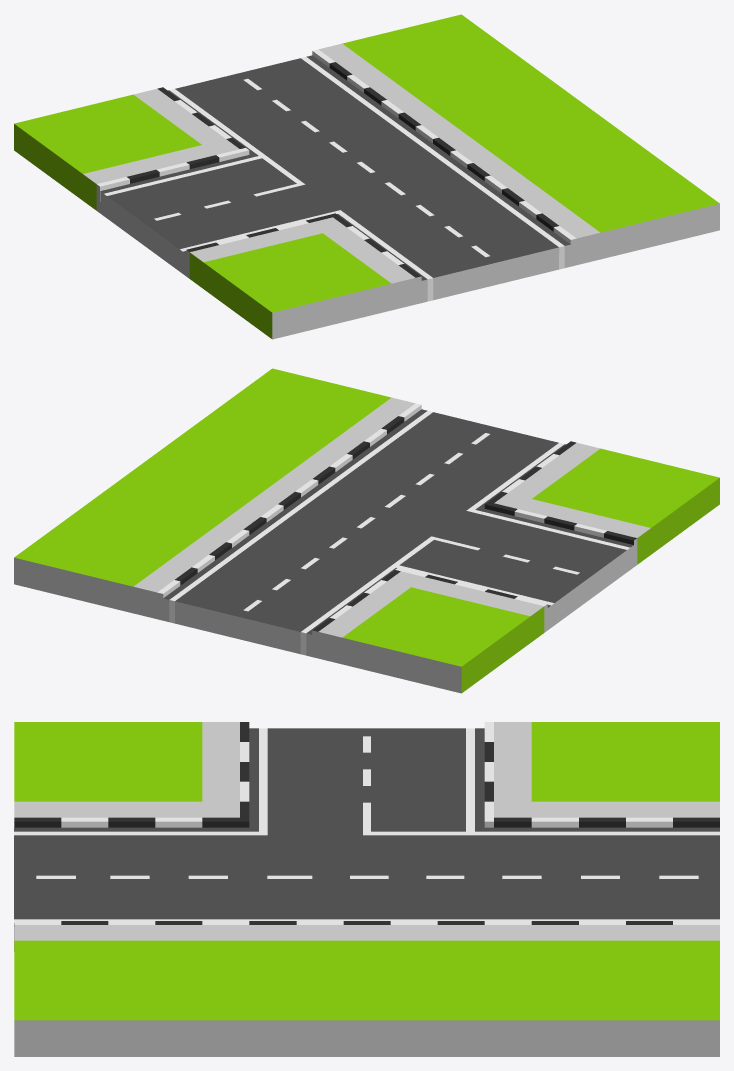
Rendered from single lane T-junction road.FBX.
The picture shows the model from 3 angles, top to bottom: view 1: azimuth 30°, elevation 25°; view 2: azimuth 150°, elevation 25°; view 3: azimuth 270°, elevation 25°; orthographic projection. The views are drawn at different scales.
Parts seen in each view (by area): view 1: single t-junction; view 2: single t-junction; view 3: single t-junction.
Part boxes in pixels (x1,y1,x2,y2): single t-junction: (14, 14, 719, 339); single t-junction: (14, 368, 719, 693); single t-junction: (14, 722, 719, 1056).
Bounding box in the file's own units: 827 × 47.24 × 827.
